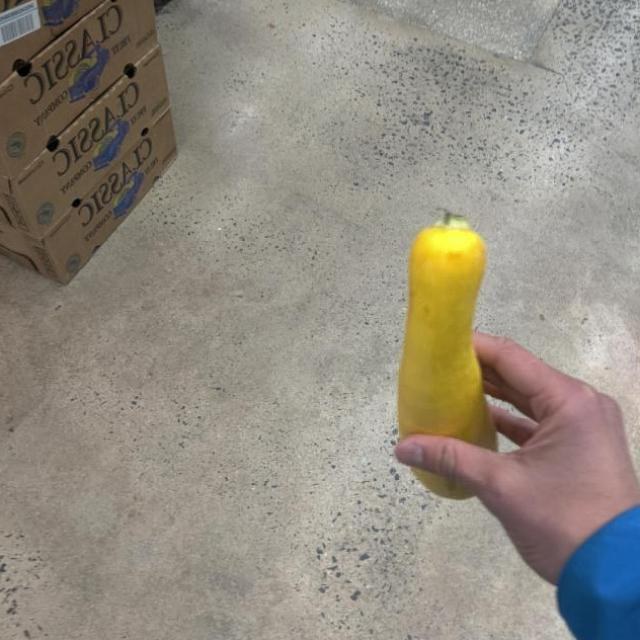Squash: (395, 217, 491, 502)
